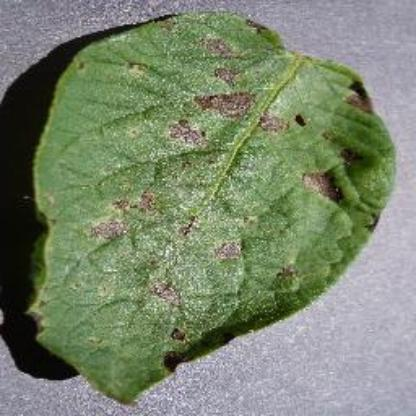Early-Blight: (21, 7, 395, 409)
